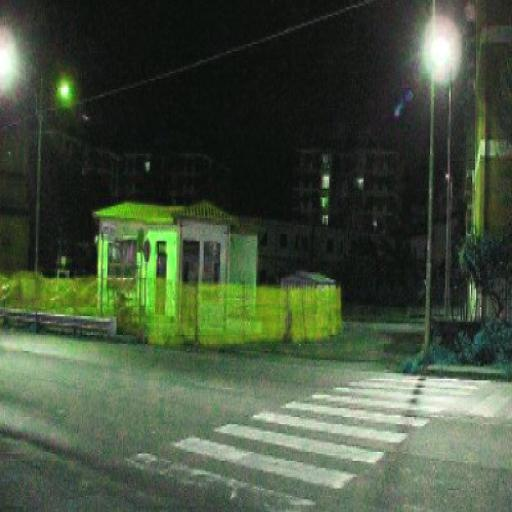crosswalk: (163, 411, 388, 502)
